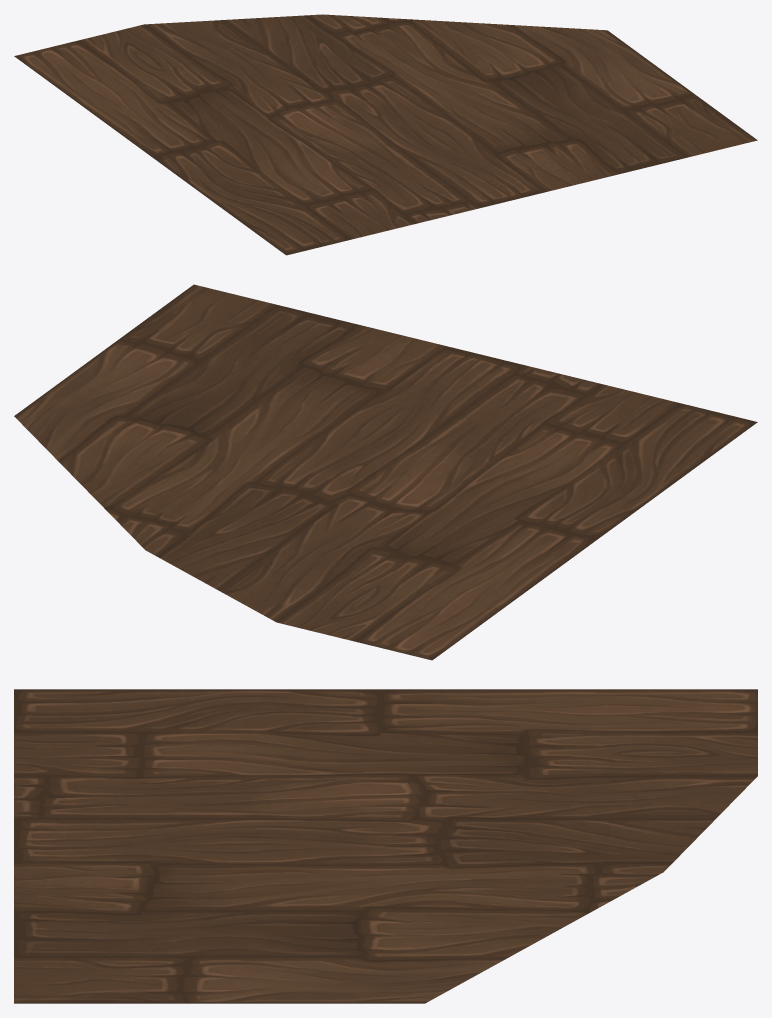
File: Floor_6.FBX
The picture shows the model from 3 angles, top to bottom: view 1: azimuth 30°, elevation 25°; view 2: azimuth 150°, elevation 25°; view 3: azimuth 270°, elevation 25°; orthographic projection. The views are drawn at different scales.
Visible parts, largest first — view 1: Floor_6; view 2: Floor_6; view 3: Floor_6.
Part boxes in pixels (box(x1,y1,x2,y2)): Floor_6: box(14, 14, 757, 255); Floor_6: box(14, 284, 757, 660); Floor_6: box(14, 689, 757, 1003).
Size of what is drawn, in the model's own units: 200 by 200 by 1.22e-14.
